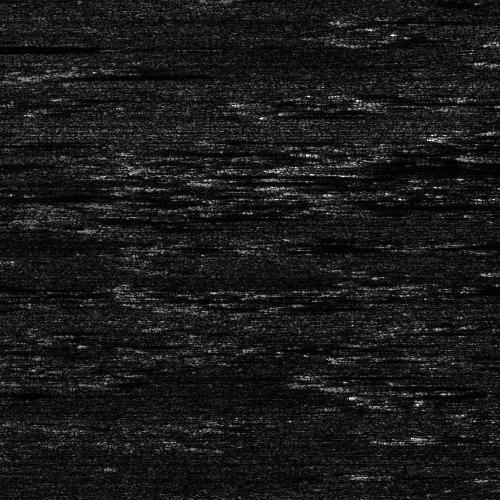object: (301, 92, 458, 111), (246, 156, 361, 175), (257, 174, 340, 199), (0, 211, 137, 224), (8, 67, 101, 84), (165, 175, 258, 186), (0, 189, 40, 204), (446, 150, 500, 161), (289, 382, 362, 389), (419, 350, 482, 357), (212, 200, 265, 205), (267, 304, 298, 311), (473, 60, 500, 65), (289, 373, 330, 376)
shadow: (299, 174, 500, 199), (304, 156, 500, 175), (212, 175, 500, 186), (55, 67, 218, 84), (380, 92, 500, 111), (0, 189, 133, 204), (38, 211, 173, 224), (326, 382, 449, 389), (239, 200, 329, 205), (283, 304, 345, 311), (450, 350, 500, 357), (310, 373, 402, 376)
